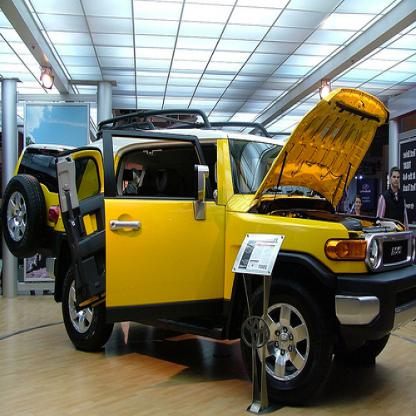car: (2, 88, 416, 404)
person: (378, 166, 409, 220), (350, 196, 371, 217)
